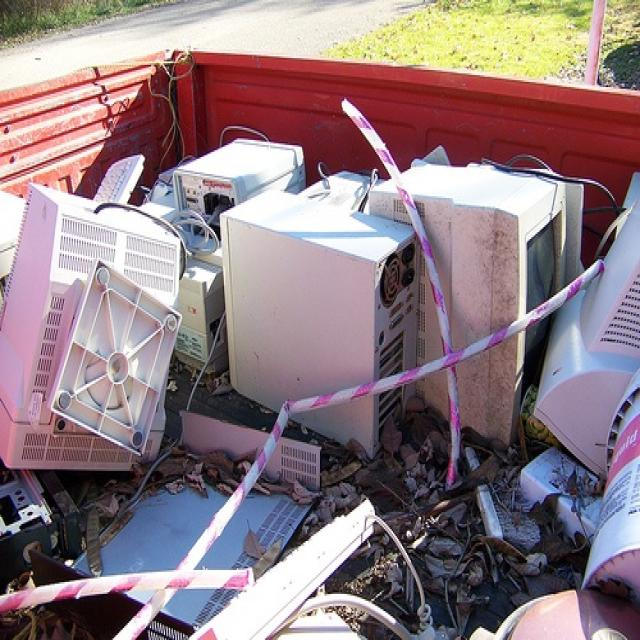tvmonitor: (368, 160, 570, 449), (0, 181, 175, 471), (531, 195, 639, 483)
